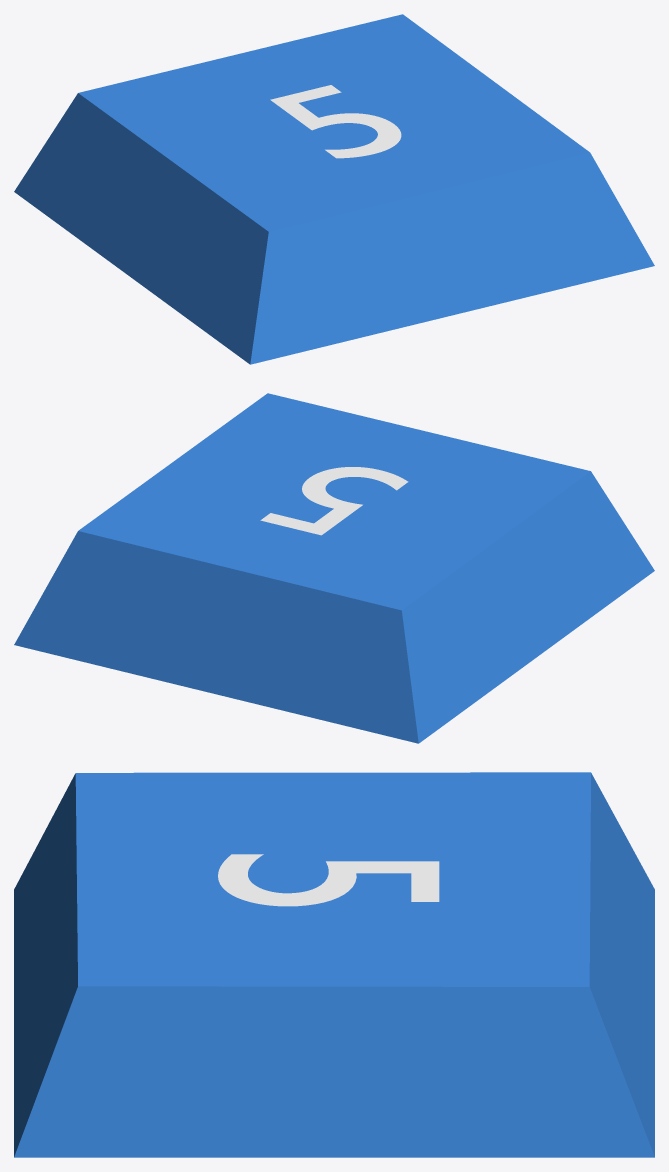
The model's file is Touche5.fbx.
3 renders of one model, top to bottom at view 1: azimuth 30°, elevation 25°; view 2: azimuth 150°, elevation 25°; view 3: azimuth 270°, elevation 25°, orthographic. The views are drawn at different scales.
Visible parts, largest first — view 1: Cube, Text; view 2: Cube, Text; view 3: Cube, Text.
Part boxes in pixels (x1,y1,x2,y2): Cube: (14, 14, 654, 364); Text: (270, 85, 401, 158); Cube: (14, 393, 654, 743); Text: (260, 467, 408, 535); Cube: (14, 772, 654, 1157); Text: (218, 854, 439, 906).
Bounding box in the file's own units: 77.99 × 19.72 × 78.86.
